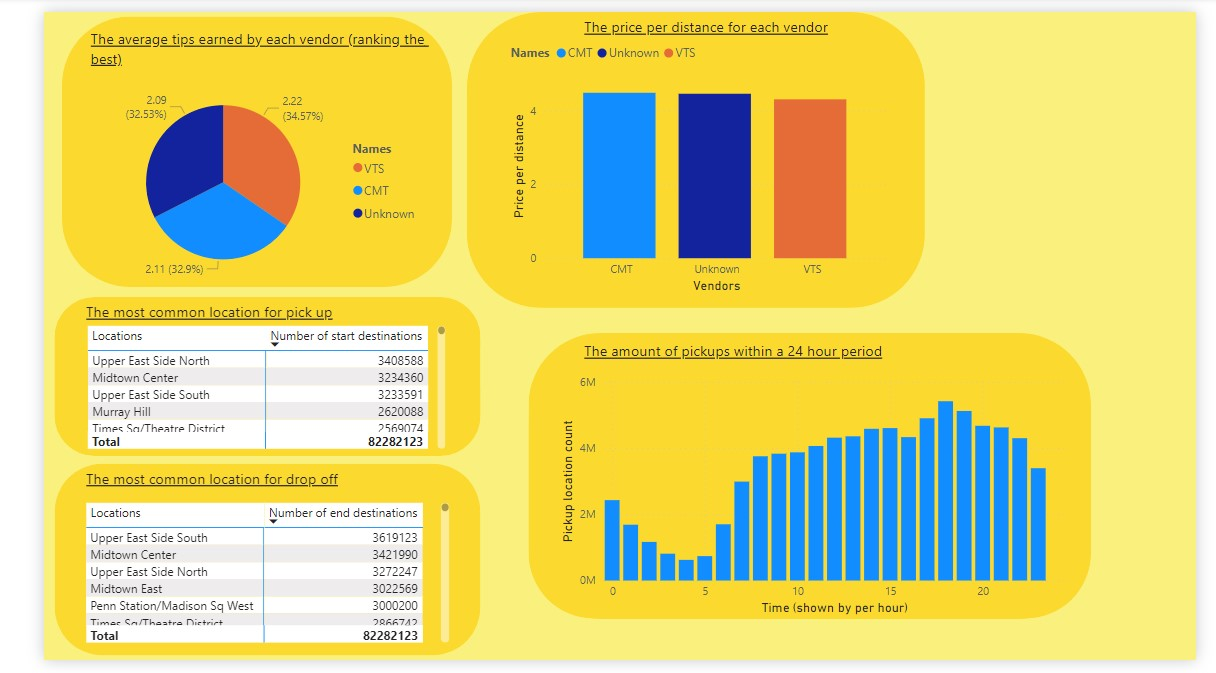

The dashboard page shown, as its layout file describes it:
{"tool":"powerbi","page":{"name":"Page 1","canvas":[1280,720],"ordinal":0},"visuals":[{"type":"shape","box":[470.5,17.3,493.9,307.5],"z":0,"group":"g2"},{"type":"shape","box":[538.9,356.7,625,317.8],"z":0},{"type":"shape","box":[538.9,385,625,288.9],"z":0,"group":"g1"},{"type":"shape","box":[21.1,4.4,433.3,300.6],"z":500,"group":"g3"},{"type":"clusteredColumnChart","fields":{"Category":["`hive_metastore` `default` `time_dim`.hour"],"Y":["CountNonNull(`hive_metastore` `default` `taxi_fact_tab`.pickup_time_id)"]},"box":[569.2,396.2,570.2,277.7],"z":500,"group":"g1"},{"type":"columnChart","fields":{"Y":["`hive_metastore` `default` `taxi_fact_tab`.Price_per_distance"],"Category":["`hive_metastore` `default` `vendor_dim`.vendor_name"],"Series":["`hive_metastore` `default` `vendor_dim`.vendor_name"]},"box":[513.3,25.4,429.7,291.2],"z":1000,"group":"g2"},{"type":"shape","box":[20.4,33.4,416.5,244.4],"z":1000,"group":"g3"},{"type":"shape","box":[11.1,316.7,473.3,176.7],"z":1000},{"type":"shape","box":[470.6,0,508.9,328.9],"z":2000},{"type":"pieChart","fields":{"Y":["`hive_metastore` `default` `taxi_fact_tab`.average_tip_amount"],"Category":["`hive_metastore` `default` `vendor_dim`.vendor_name"]},"box":[50.7,57.5,375.6,261.1],"z":2000,"group":"g3"},{"type":"pivotTable","fields":{"Rows":["`hive_metastore` `default` `location_dim` (2).location_name"],"Values":["`hive_metastore` `default` `taxi_fact_tab`.pickup_count"]},"box":[43.3,343.3,407.8,146.7],"z":3000},{"type":"shape","box":[11.1,502.2,473.3,213.3],"z":4000},{"type":"pivotTable","fields":{"Rows":["`hive_metastore` `default` `location_dim`.location_name"],"Values":["`hive_metastore` `default` `taxi_fact_tab`.dropoff_count"]},"box":[41.1,540,413.3,165.6],"z":5000},{"type":"group","id":"g1","title":"Group 3","box":[538.9,385,625,288.9],"z":6000},{"type":"group","id":"g2","title":"Group 2","box":[470.5,17.3,493.9,307.5],"z":7000},{"type":"group","id":"g3","title":"Group 1","box":[20.4,4.4,434,314.2],"z":8000},{"type":"textbox","box":[47.2,13.3,390,62.2],"z":9000},{"type":"textbox","box":[595,0,414.4,56.1],"z":10000},{"type":"textbox","box":[595,360,449.4,56.1],"z":11000},{"type":"textbox","box":[41.1,316.7,448.9,55.6],"z":12000},{"type":"textbox","box":[41.1,502.2,425.6,55.6],"z":13000}]}

Visuals, with their boxes in screenshot pixels (x1, y1, x2, y2), scaled from the page's 1280x720 canvas onto the 1216x673 screenshot:
shape: select_region(447, 16, 916, 304)
shape: select_region(512, 333, 1106, 630)
shape: select_region(512, 360, 1106, 630)
shape: select_region(20, 4, 432, 285)
clusteredColumnChart - `hive_metastore` `default` `time_dim`.hour x CountNonNull(`hive_metastore` `default` `taxi_fact_tab`.pickup_time_id): select_region(541, 370, 1082, 630)
columnChart - `hive_metastore` `default` `taxi_fact_tab`.Price_per_distance x `hive_metastore` `default` `vendor_dim`.vendor_name: select_region(488, 24, 896, 296)
shape: select_region(19, 31, 415, 260)
shape: select_region(11, 296, 460, 461)
shape: select_region(447, 0, 931, 307)
pieChart - `hive_metastore` `default` `taxi_fact_tab`.average_tip_amount x `hive_metastore` `default` `vendor_dim`.vendor_name: select_region(48, 54, 405, 298)
pivotTable - `hive_metastore` `default` `location_dim` (2).location_name x `hive_metastore` `default` `taxi_fact_tab`.pickup_count: select_region(41, 321, 429, 458)
shape: select_region(11, 469, 460, 669)
pivotTable - `hive_metastore` `default` `location_dim`.location_name x `hive_metastore` `default` `taxi_fact_tab`.dropoff_count: select_region(39, 505, 432, 660)
"Group 3" group: select_region(512, 360, 1106, 630)
"Group 2" group: select_region(447, 16, 916, 304)
"Group 1" group: select_region(19, 4, 432, 298)
textbox: select_region(45, 12, 415, 71)
textbox: select_region(565, 0, 959, 52)
textbox: select_region(565, 336, 992, 389)
textbox: select_region(39, 296, 466, 348)
textbox: select_region(39, 469, 443, 521)
